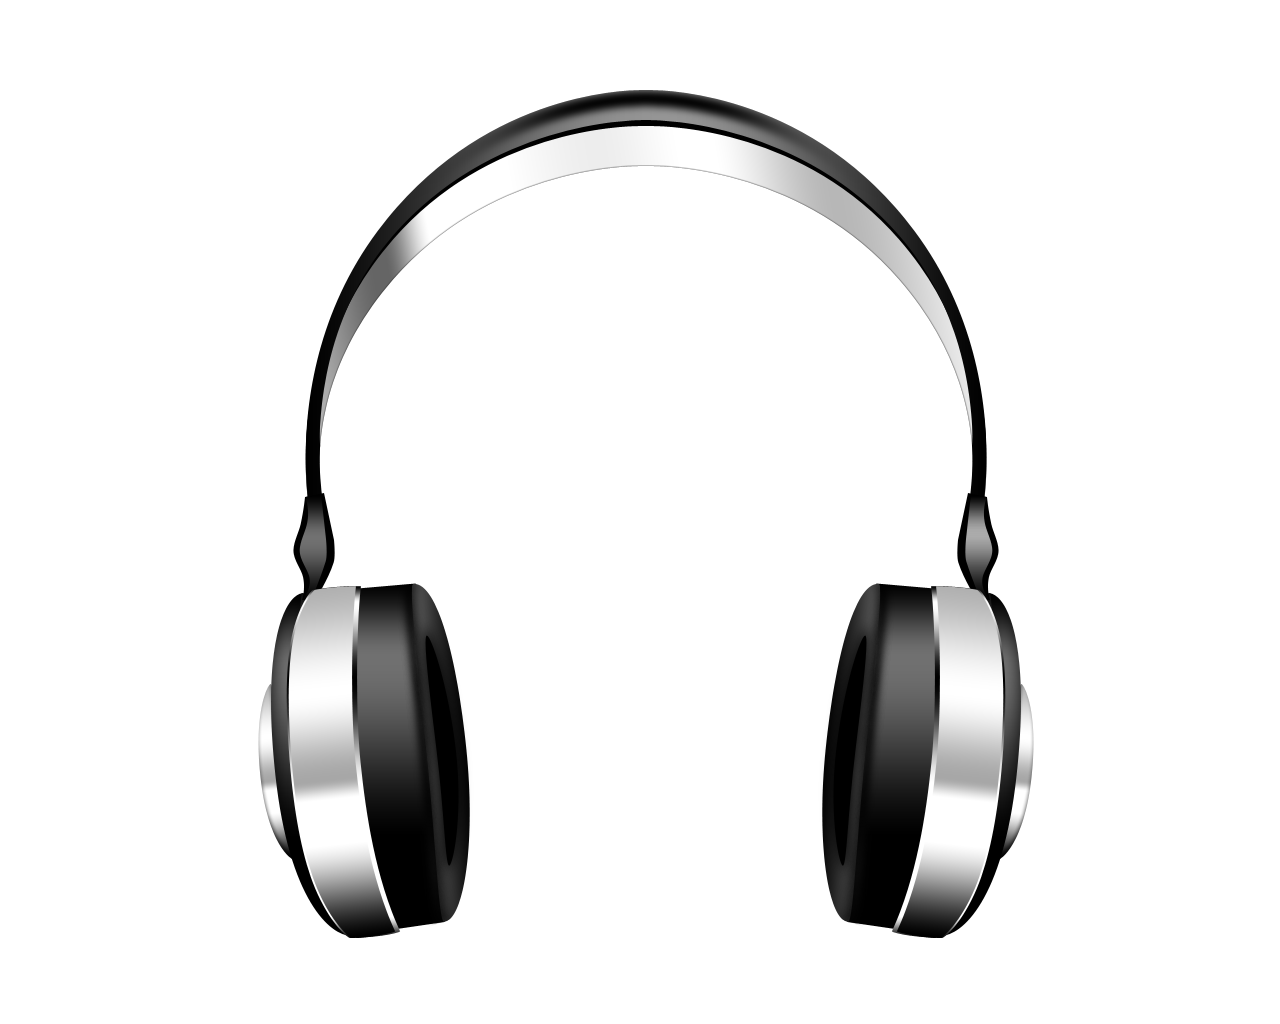headphone: (261, 91, 1070, 957)
